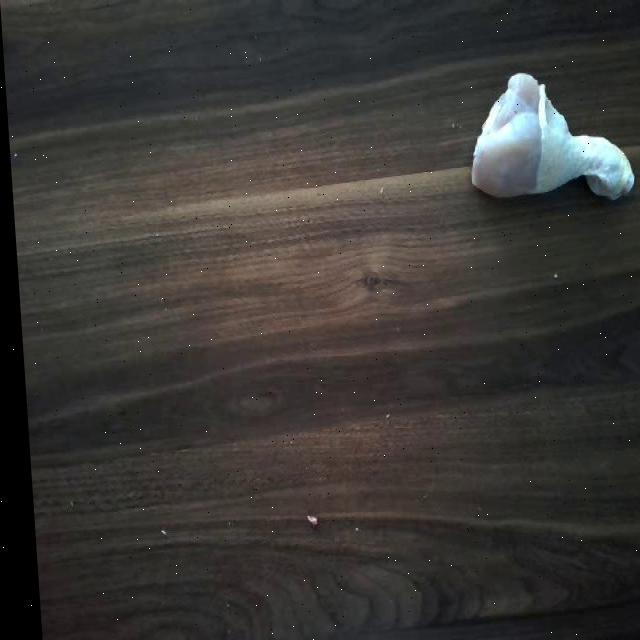leg: (464, 68, 638, 206)
